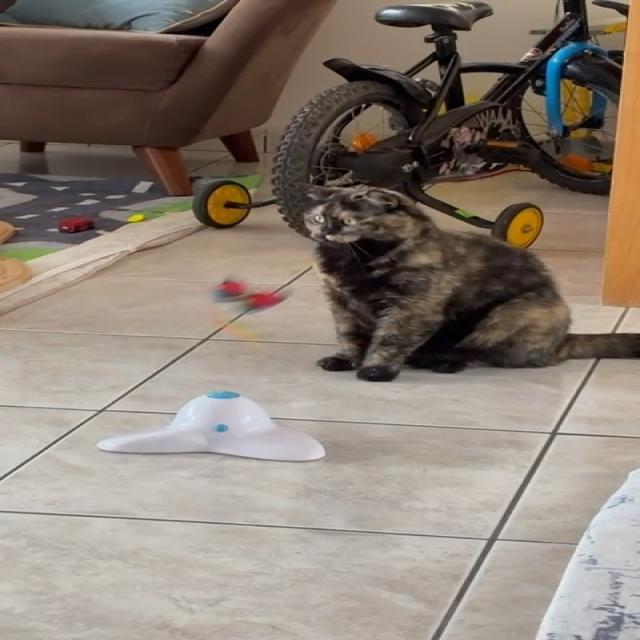authorized: (293, 180, 639, 382)
